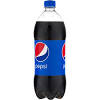Pepsi: (28, 1, 70, 100)
